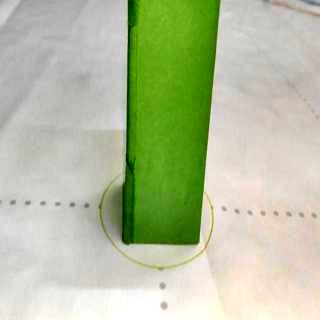greenbox: (126, 0, 218, 244)
